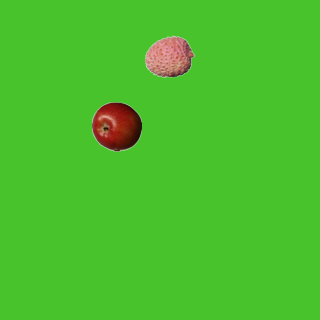Apple Braeburn: (91, 101, 141, 151)
Lychee: (144, 31, 194, 81)
